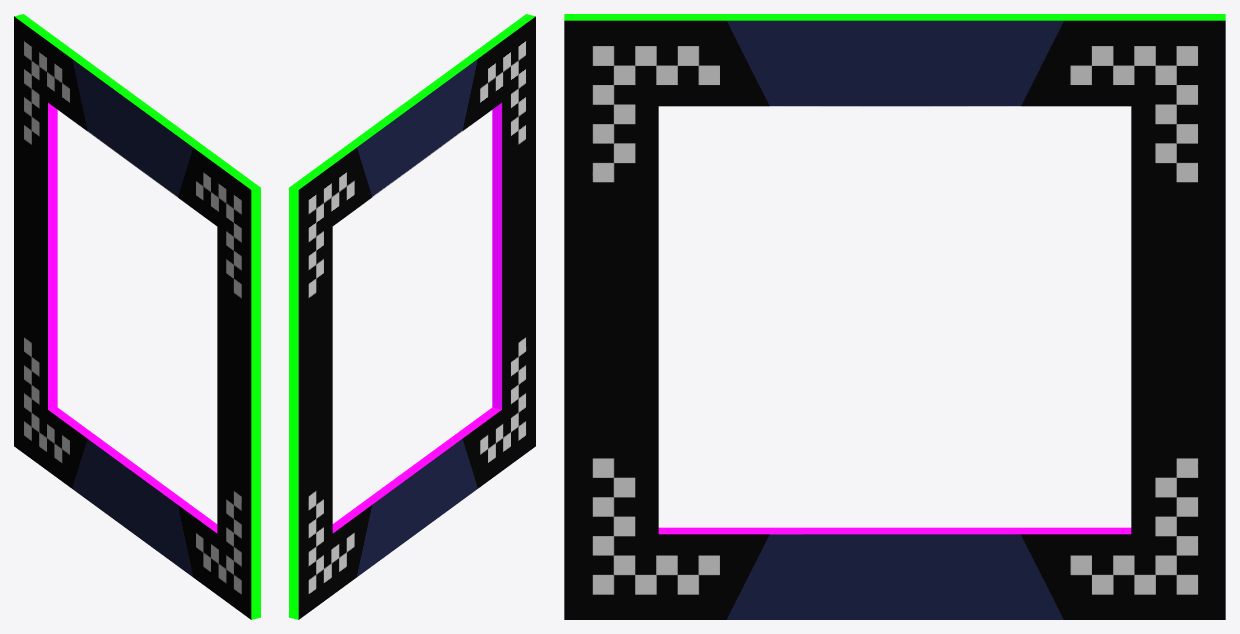
The model's file is gate.glb.
3 views of the same model, side by side, from view 1: azimuth 30°, elevation 25°; view 2: azimuth 150°, elevation 25°; view 3: azimuth 270°, elevation 25° (orthographic). The views are drawn at different scales.
Parts seen in each view (by area): view 1: Cube; view 2: Cube; view 3: Cube.
Part boxes in pixels (x1,y1,x2,y2): Cube: (14,14,260,619); Cube: (289,14,535,619); Cube: (564,14,1225,619).
Bounding box in the file's own units: 0.05 × 2.13 × 2.13.
Materials: 3 (1 with a texture image).
